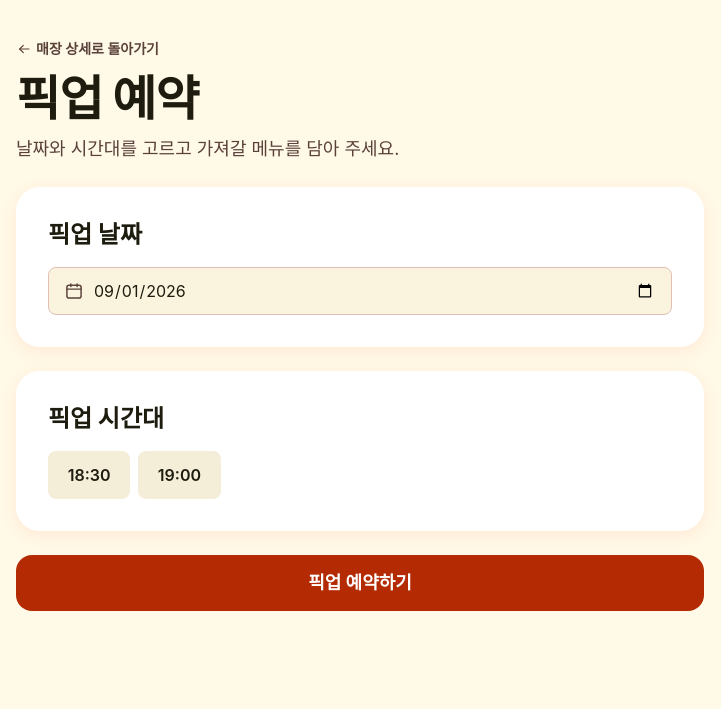
Test: 픽업 예약 작성 › PICKUP_003 구간 오류를 서버 code로 안내한다
Click the button "18:30". click: (89, 475)
box: [48,451,130,499]
(page scrolled)
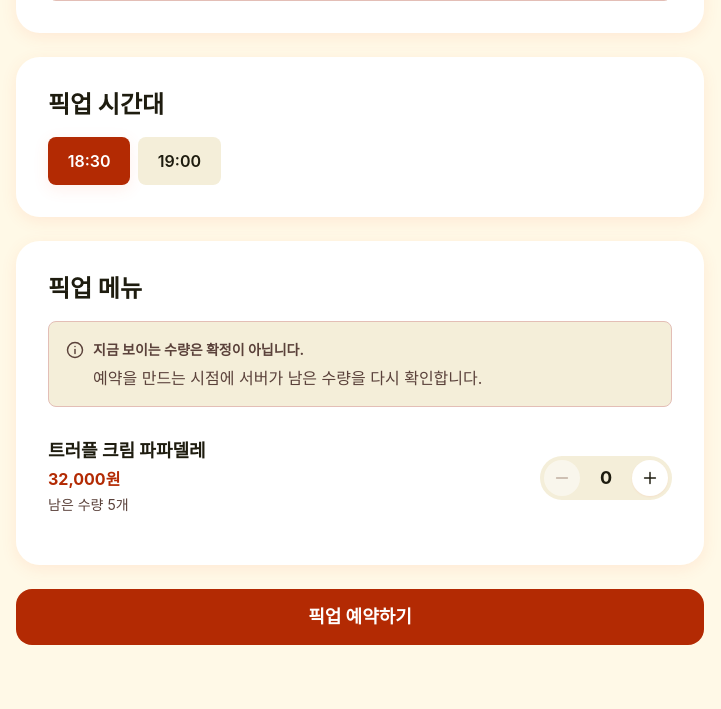
Click the button named "트러플 크림 파파델레 수량 늘리기". click: (650, 478)
box: [632,460,668,496]
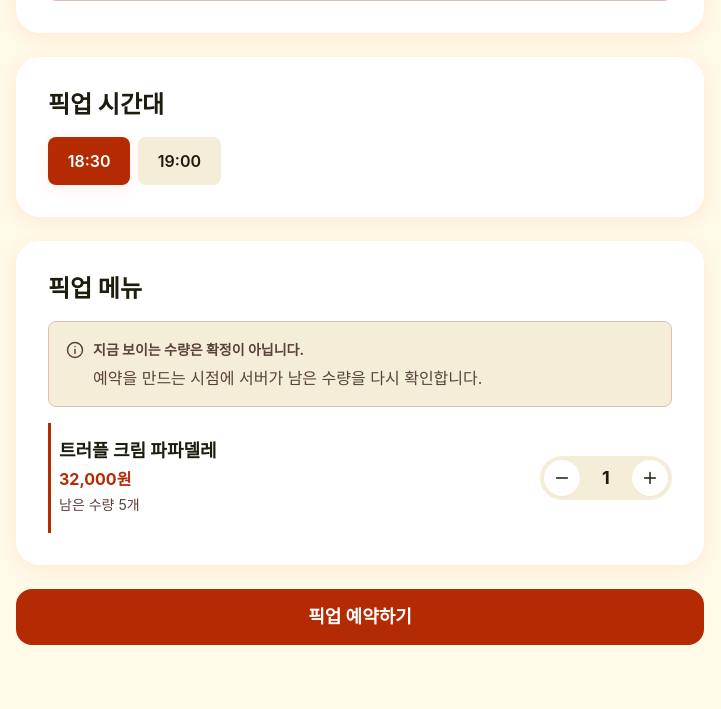
Click the button "픽업 예약하기". click: (360, 617)
box: [16,589,704,645]
(page scrolled)
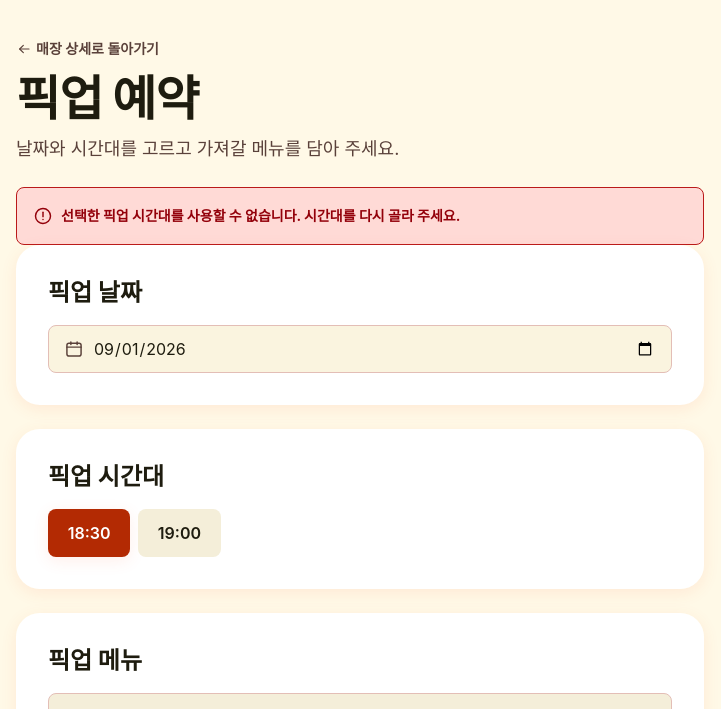
Expected: the text "선택한 픽업 시간대를 사용할 수 없습니다. 시간대를 다시 골라 주세요." is shown, [61,207,460,224]
